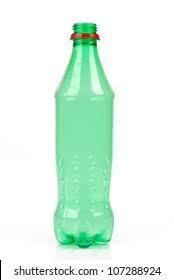Plastic: (52, 22, 114, 248)
